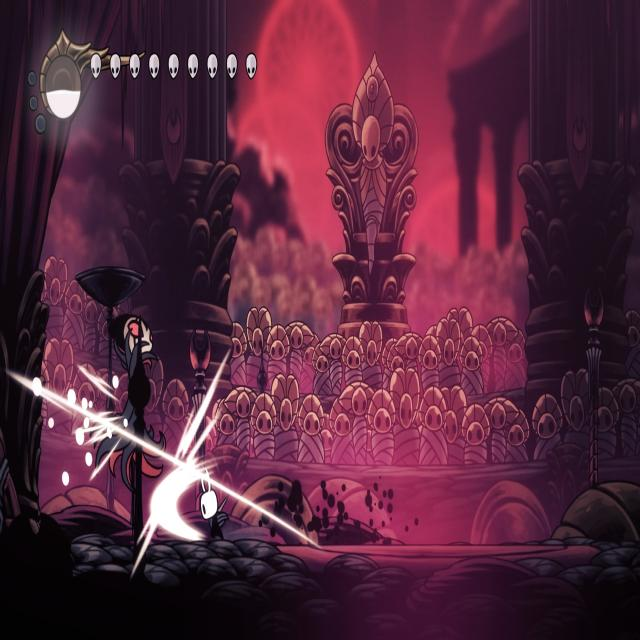Grimm: (88, 305, 170, 539)
Player: (190, 465, 234, 544)
